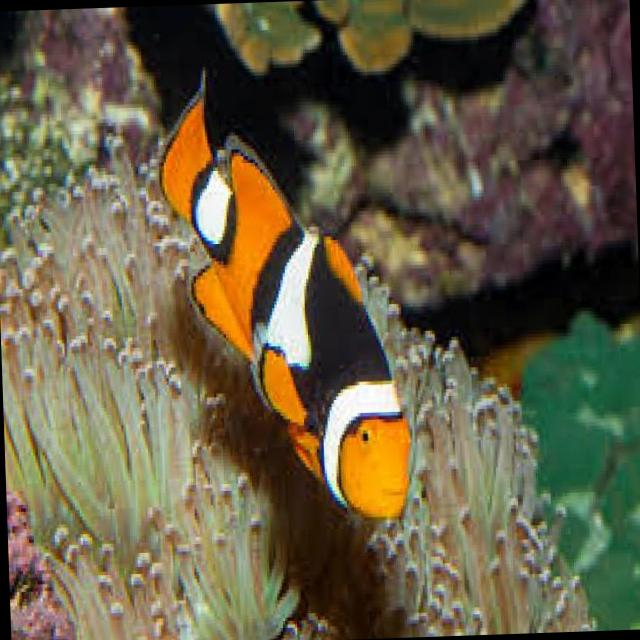ClownFish: (153, 60, 415, 531)
